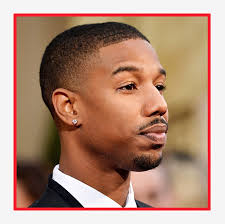s.black: (90, 93, 135, 147)
